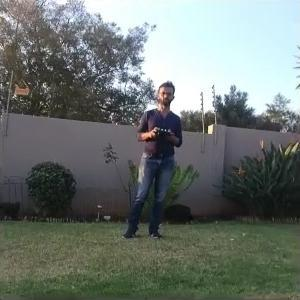follow: (114, 73, 183, 242)
